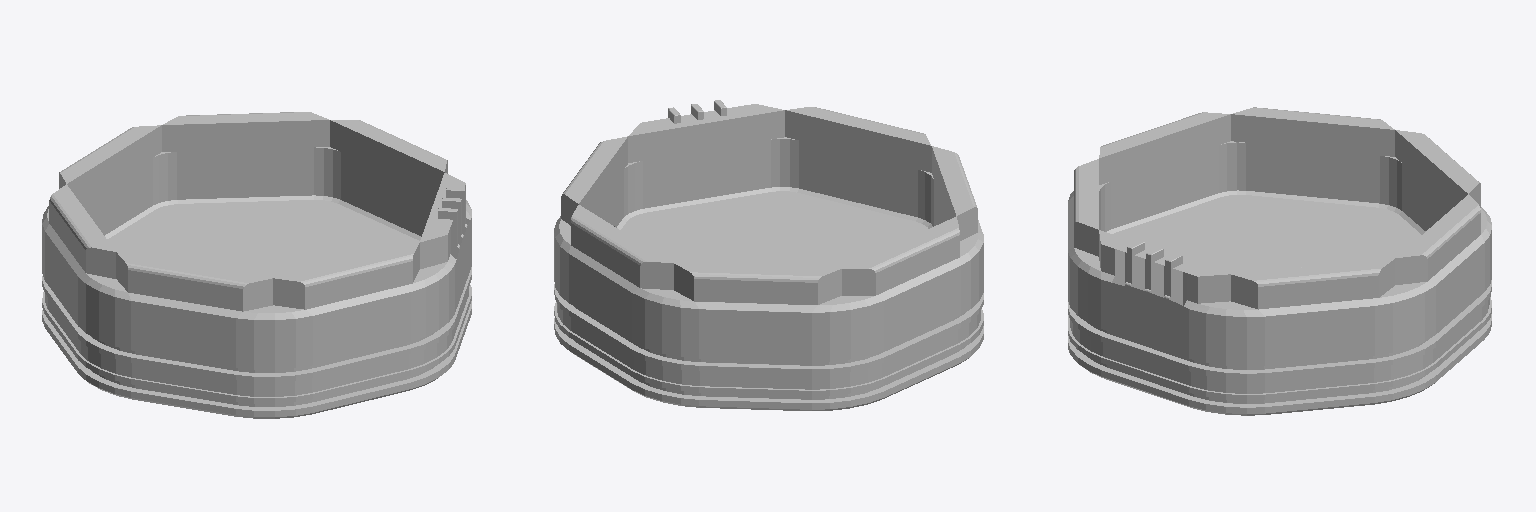
The model's file is Projector Body.obj.
The picture shows the model from 3 angles: view 1: azimuth 30°, elevation 25°; view 2: azimuth 150°, elevation 25°; view 3: azimuth 270°, elevation 25°; orthographic projection.
Visible parts, largest first — view 1: Cylinder.009; view 2: Cylinder.009; view 3: Cylinder.009.
Boxes of the visible parts, <box> form: Cylinder.009: <box>42,112,471,418</box>; Cylinder.009: <box>554,100,983,410</box>; Cylinder.009: <box>1068,107,1491,415</box>.
Size of the model in its own units: 5.21 by 1.87 by 5.13.